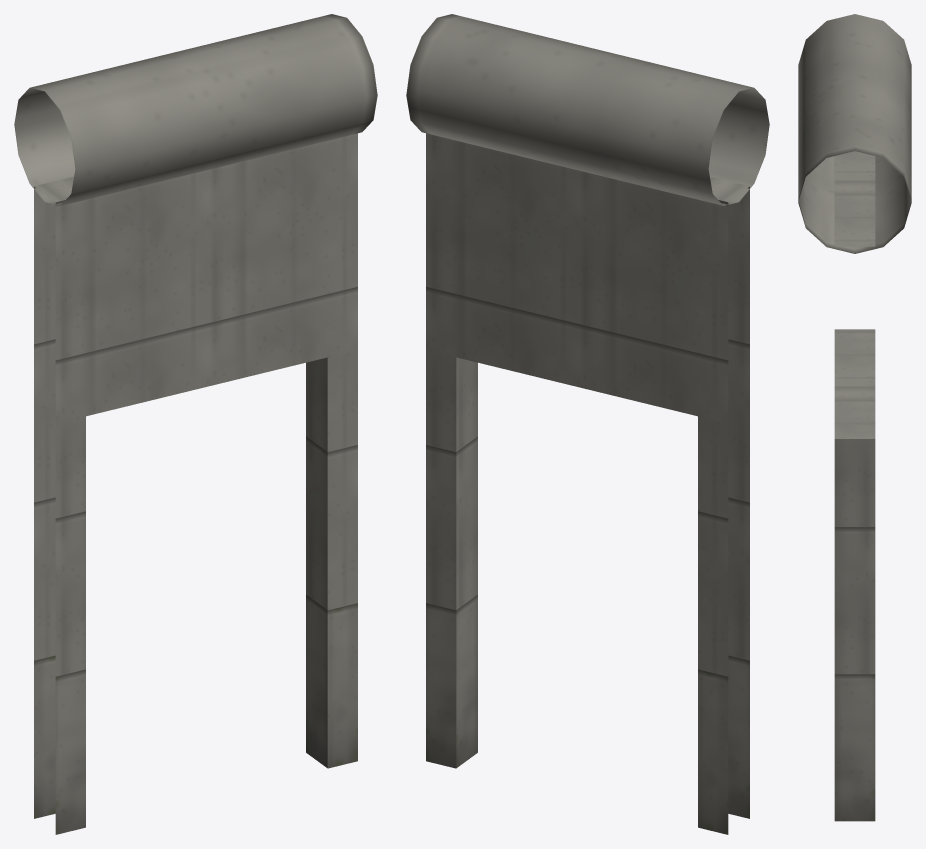
The model's file is wall_yard_gateway.fbx.
The picture shows the model from 3 angles, left to right: view 1: azimuth 30°, elevation 25°; view 2: azimuth 150°, elevation 25°; view 3: azimuth 270°, elevation 25°; orthographic projection. The views are drawn at different scales.
Parts seen in each view (by area): view 1: wall_yard_gateway; view 2: wall_yard_gateway; view 3: wall_yard_gateway.
Part boxes in pixels (x1,y1,x2,y2): wall_yard_gateway: [14, 14, 377, 834]; wall_yard_gateway: [406, 14, 769, 834]; wall_yard_gateway: [798, 14, 911, 821].
Bounding box in the file's own units: 2 × 4.65 × 0.7.
1 material, 1 textured.
